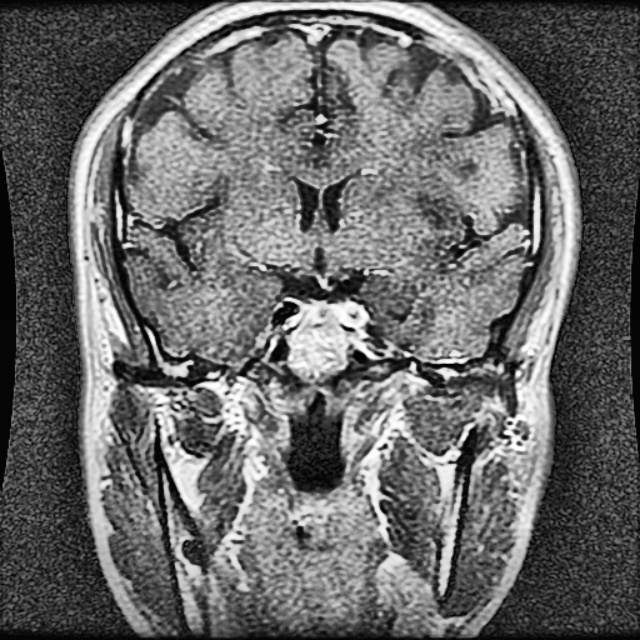Pituitary: (302, 304, 342, 324)
